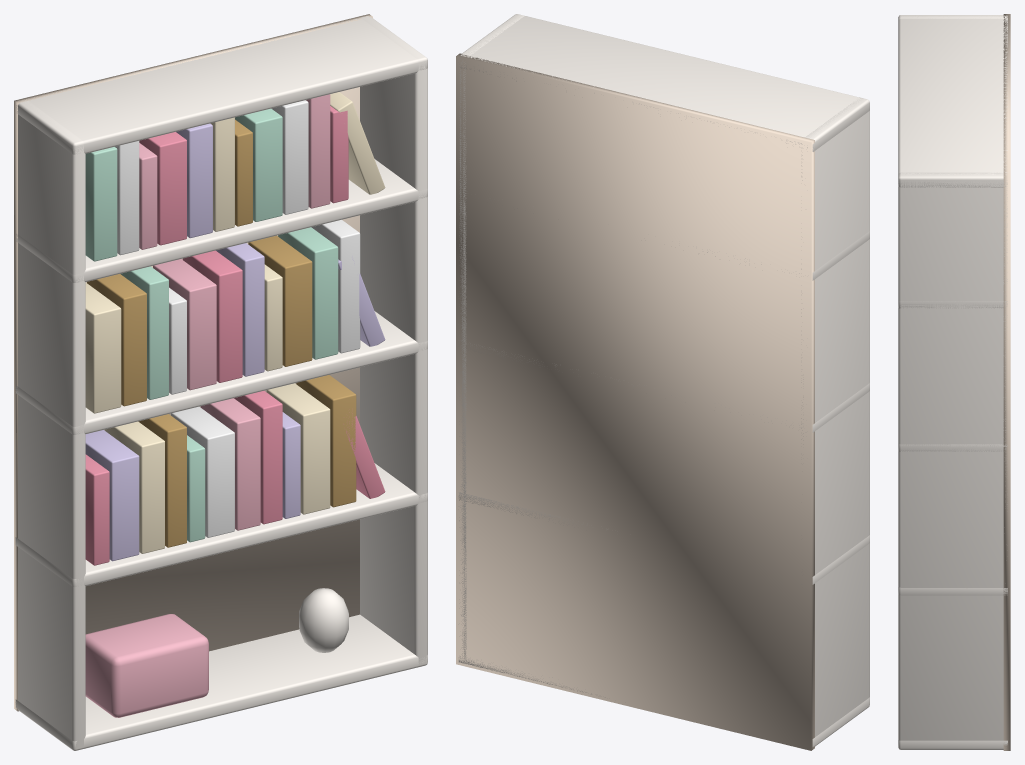
Rendered from furn_bookshelf.glb.
3 views of the same model, side by side, from view 1: azimuth 30°, elevation 25°; view 2: azimuth 150°, elevation 25°; view 3: azimuth 270°, elevation 25° (orthographic). The views are drawn at different scales.
Visible parts, largest first — view 1: Cube; view 2: Cube; view 3: Cube.
Part boxes in pixels (left/top/right/bottom): Cube: left=14, top=14, right=427, bottom=750; Cube: left=456, top=14, right=869, bottom=750; Cube: left=898, top=14, right=1010, bottom=750.
Bounding box in the file's own units: 1.1 × 1.8 × 0.32.
